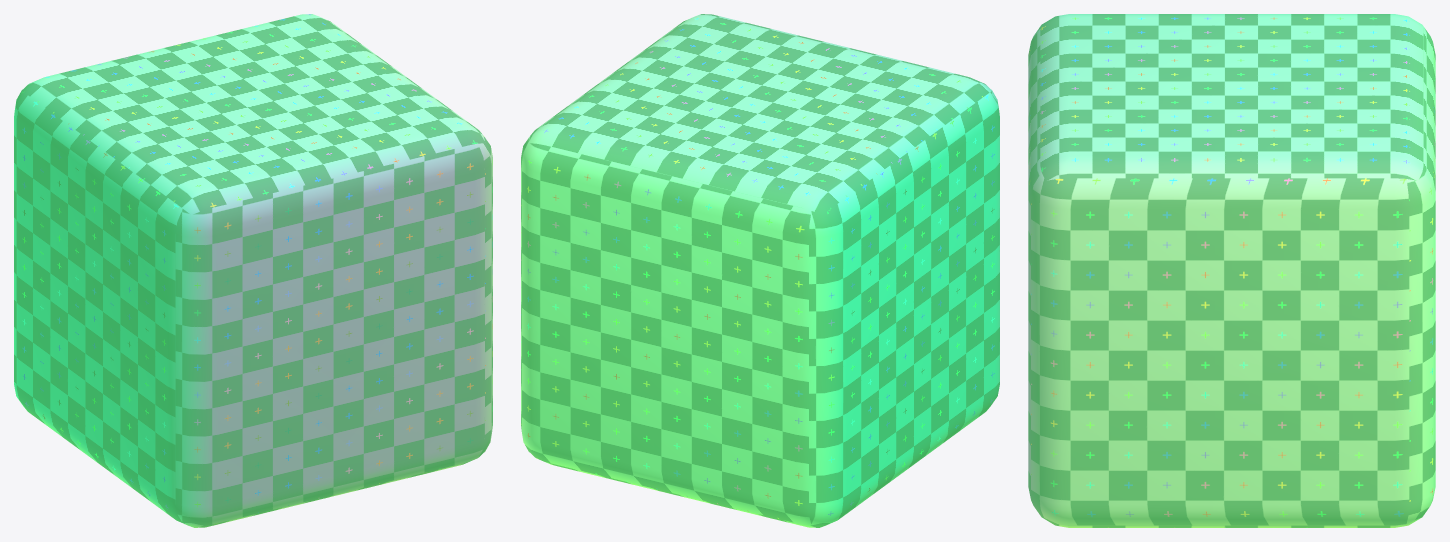
File: Roundcube.gltf
3 views of the same model, side by side, from view 1: azimuth 30°, elevation 25°; view 2: azimuth 150°, elevation 25°; view 3: azimuth 270°, elevation 25° (orthographic). The views are drawn at different scales.
Parts seen in each view (by area): view 1: Roundcube; view 2: Roundcube; view 3: Roundcube.
Boxes of the visible parts, x1,y1,x2,y2 form: Roundcube: (14,14,492,527); Roundcube: (521,14,999,527); Roundcube: (1028,14,1435,527).
Bounding box in the file's own units: 2 × 2 × 2.
Materials: 1 (1 with a texture image).
